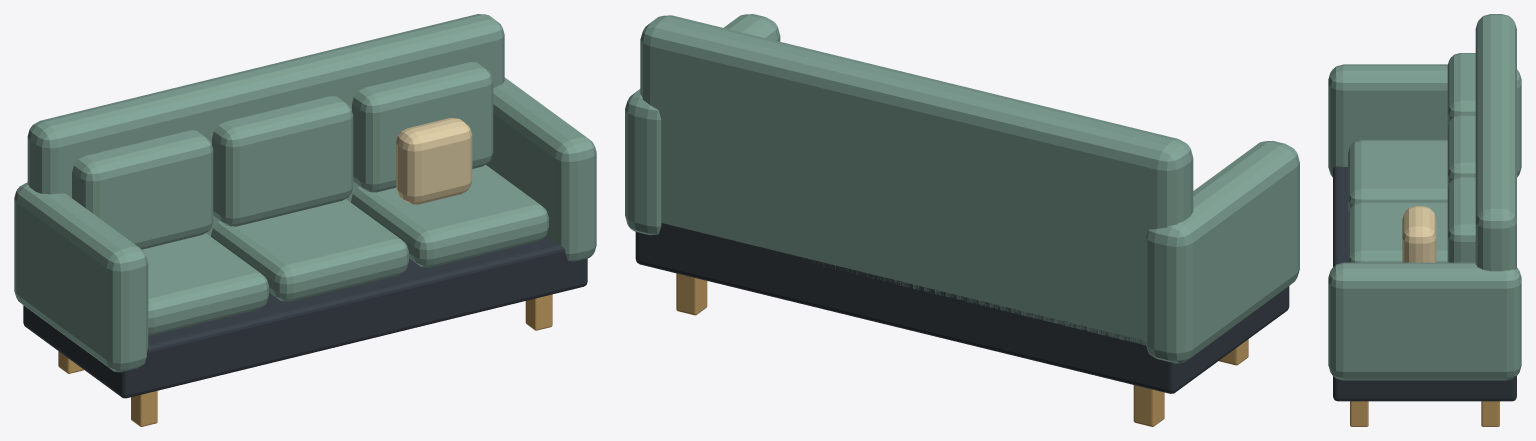
The model's file is lounge-sofa.glb.
The picture shows the model from 3 angles, left to right: view 1: azimuth 30°, elevation 25°; view 2: azimuth 150°, elevation 25°; view 3: azimuth 270°, elevation 25°; orthographic projection. The views are drawn at different scales.
Parts seen in each view (by area): view 1: Base, Back, Arm, Back cushion.001, Back cushion, Seat.001, Arm.001, Seat.002, Back cushion.002, Seat, Accent pillow, Foot.002 (+1 smaller); view 2: Back, Base, Arm, Arm.001, Foot.001, Foot.003; view 3: Arm.001, Back, Arm, Seat, Base, Seat.001, Back cushion.002, Accent pillow, Back cushion.001, Back cushion, Foot.002, Foot.003.
Boxes of the visible parts, bbox=[...] form: Base: bbox=[23, 236, 587, 398]; Back: bbox=[27, 14, 504, 236]; Arm: bbox=[14, 182, 148, 372]; Back cushion.001: bbox=[212, 96, 353, 226]; Back cushion: bbox=[72, 130, 213, 249]; Seat.001: bbox=[211, 199, 408, 301]; Arm.001: bbox=[486, 77, 596, 261]; Seat.002: bbox=[351, 165, 548, 267]; Back cushion.002: bbox=[352, 62, 493, 192]; Seat: bbox=[142, 233, 268, 335]; Accent pillow: bbox=[396, 118, 472, 204]; Foot.002: bbox=[525, 294, 552, 330]; Back: bbox=[640, 15, 1193, 345]; Base: bbox=[635, 223, 1289, 393]; Arm: bbox=[1146, 141, 1299, 363]; Arm.001: bbox=[625, 14, 780, 235]; Foot.001: bbox=[1133, 385, 1164, 426]; Foot.003: bbox=[676, 273, 707, 315]; Arm.001: bbox=[1328, 262, 1521, 380]; Back: bbox=[1475, 14, 1516, 271]; Arm: bbox=[1328, 64, 1521, 177]; Seat: bbox=[1348, 140, 1447, 211]; Base: bbox=[1333, 166, 1516, 401]; Seat.001: bbox=[1348, 202, 1447, 262]; Back cushion.002: bbox=[1447, 176, 1475, 262]; Accent pillow: bbox=[1402, 206, 1436, 262]; Back cushion.001: bbox=[1447, 114, 1475, 188]; Back cushion: bbox=[1447, 53, 1475, 126]; Foot.002: bbox=[1350, 401, 1368, 426]; Foot.003: bbox=[1481, 401, 1499, 426].
Bounding box in the file's own units: 2.72 × 1.32 × 1.03.
